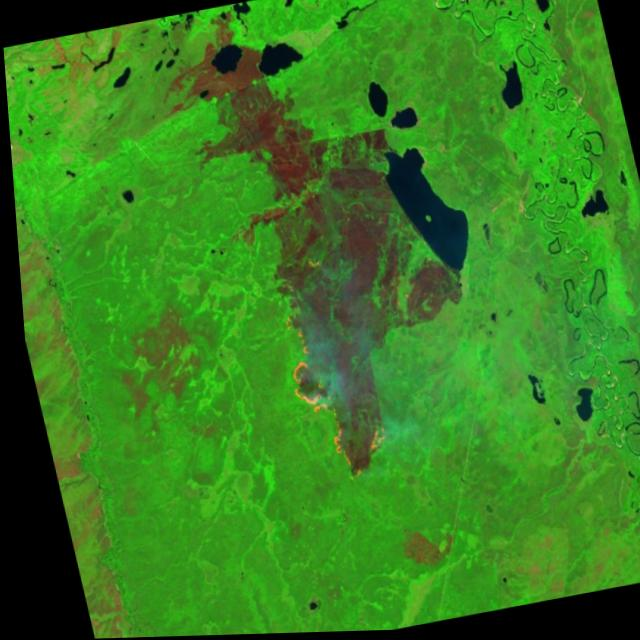fire: (268, 307, 361, 492)
